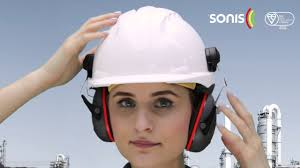Person_wearing_helmet: (70, 2, 232, 112)
